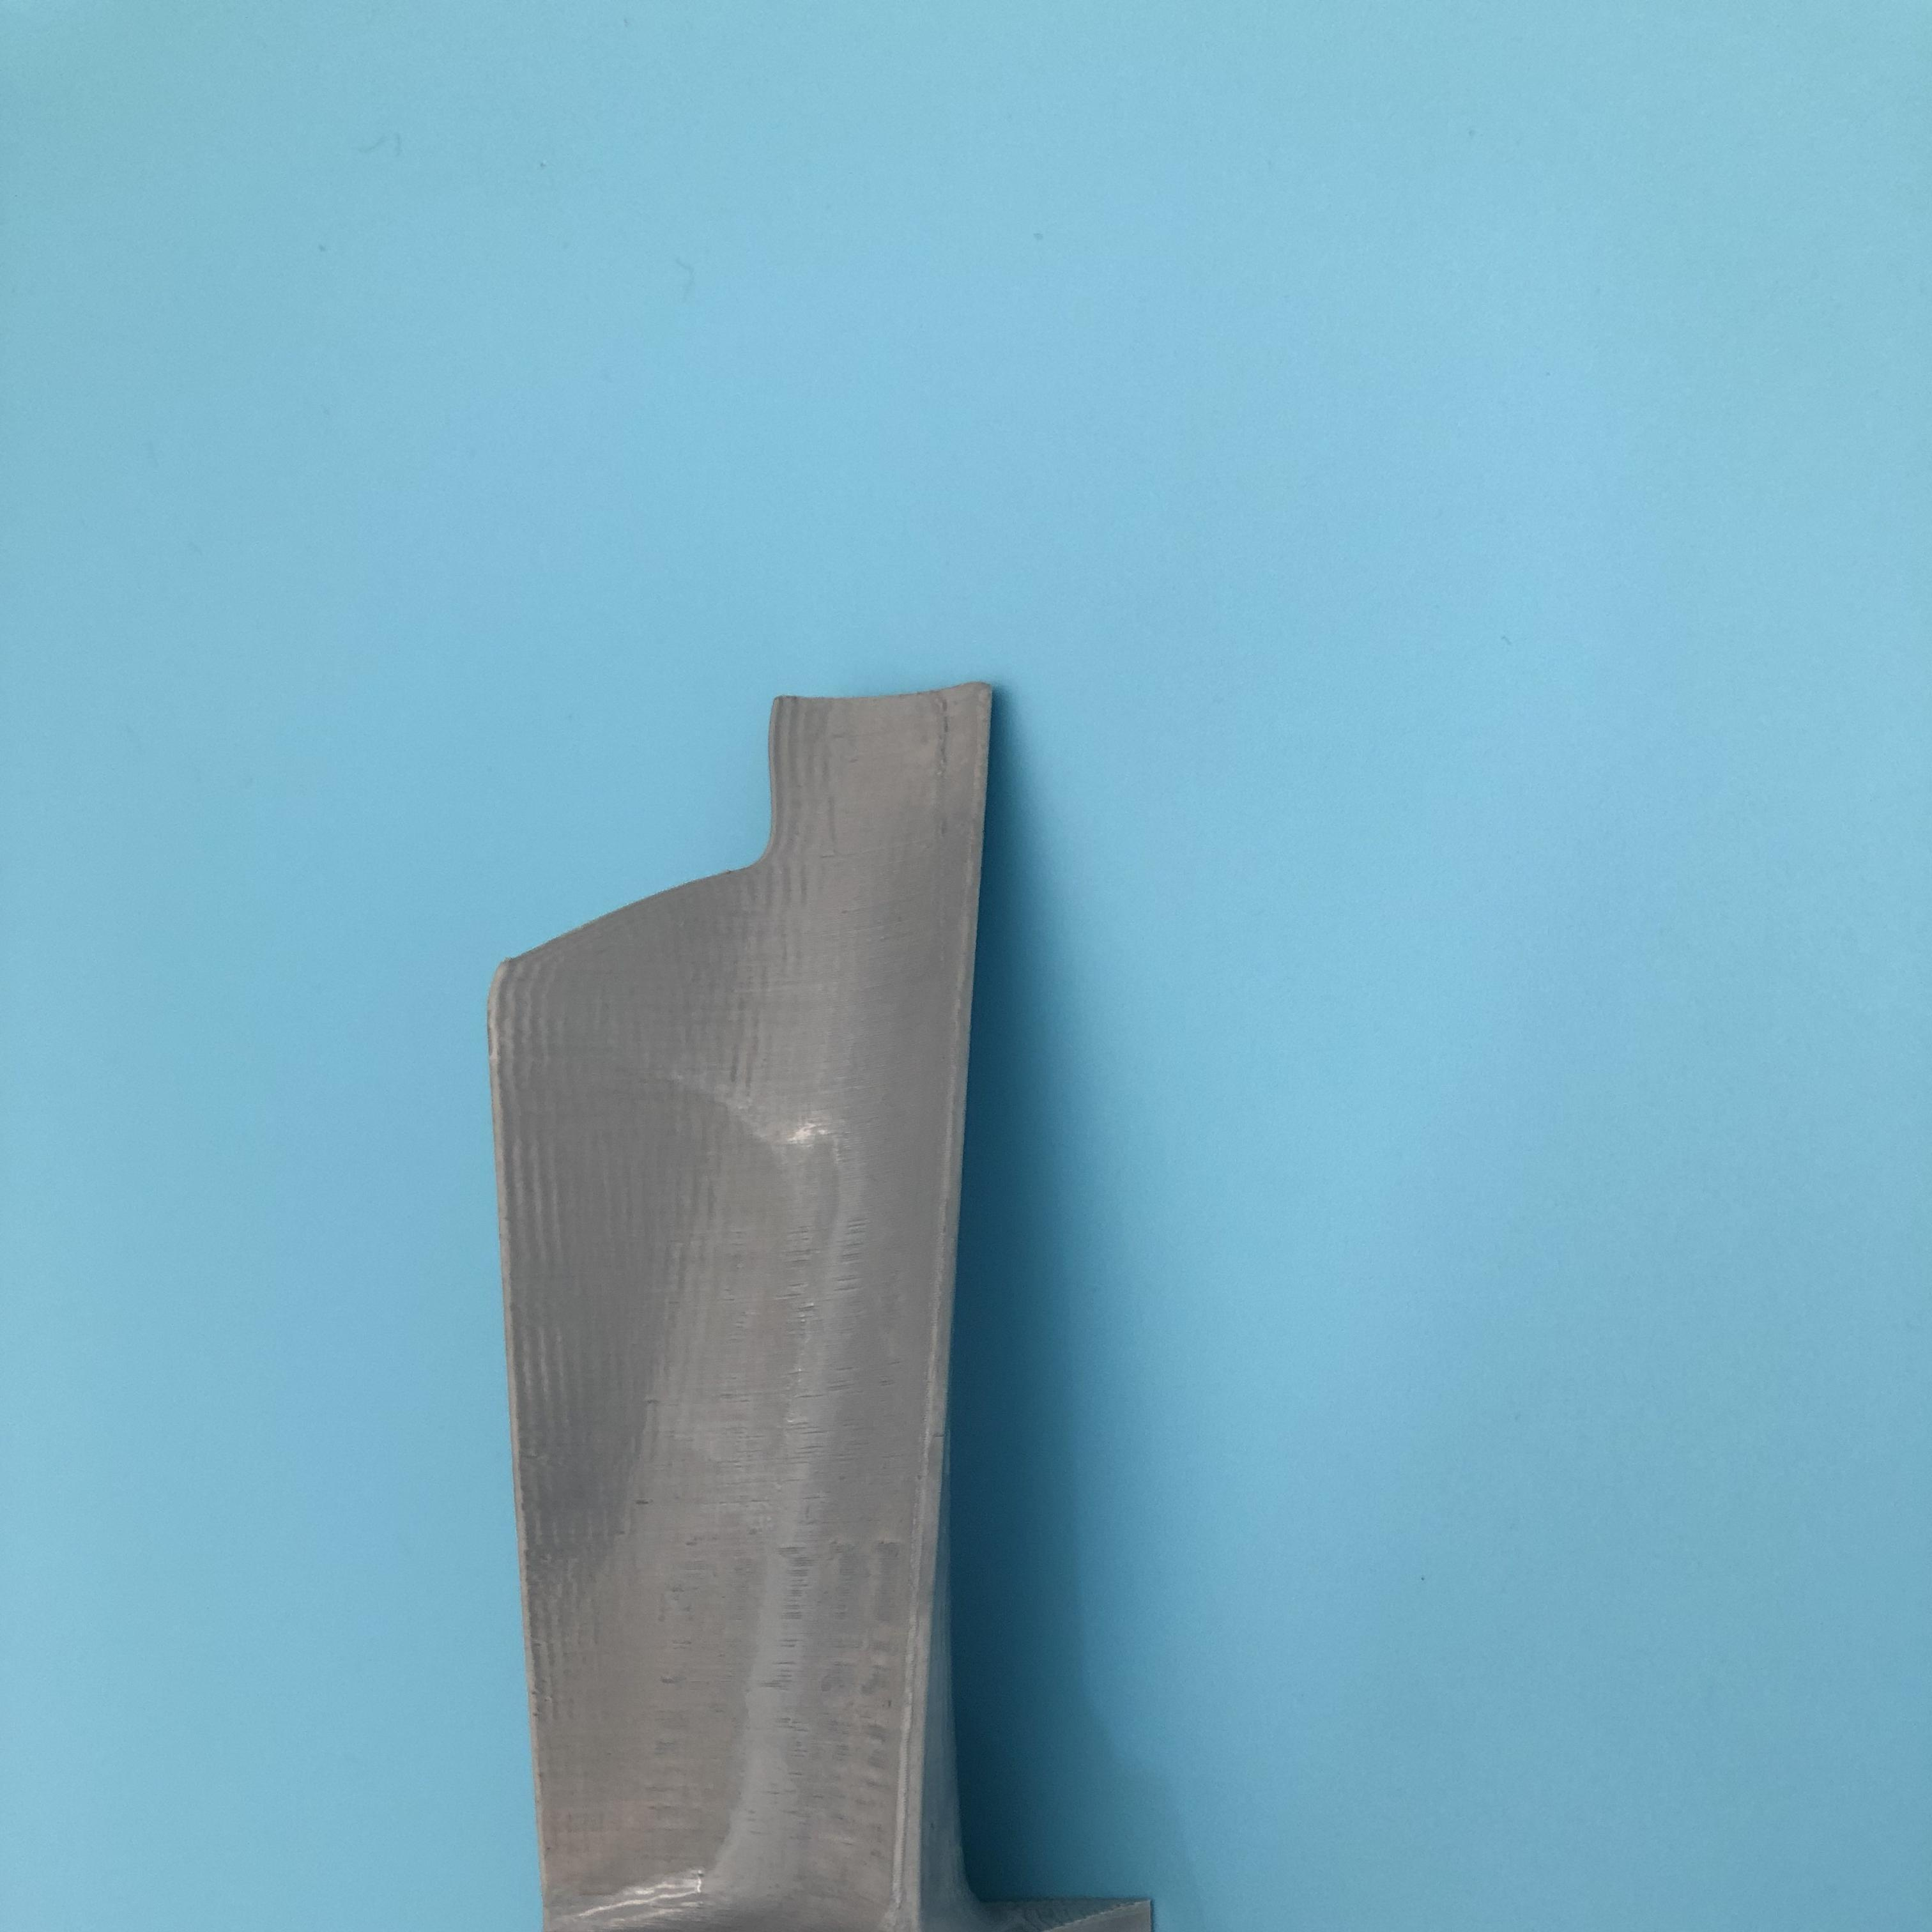fracture: (538, 782, 906, 968)
